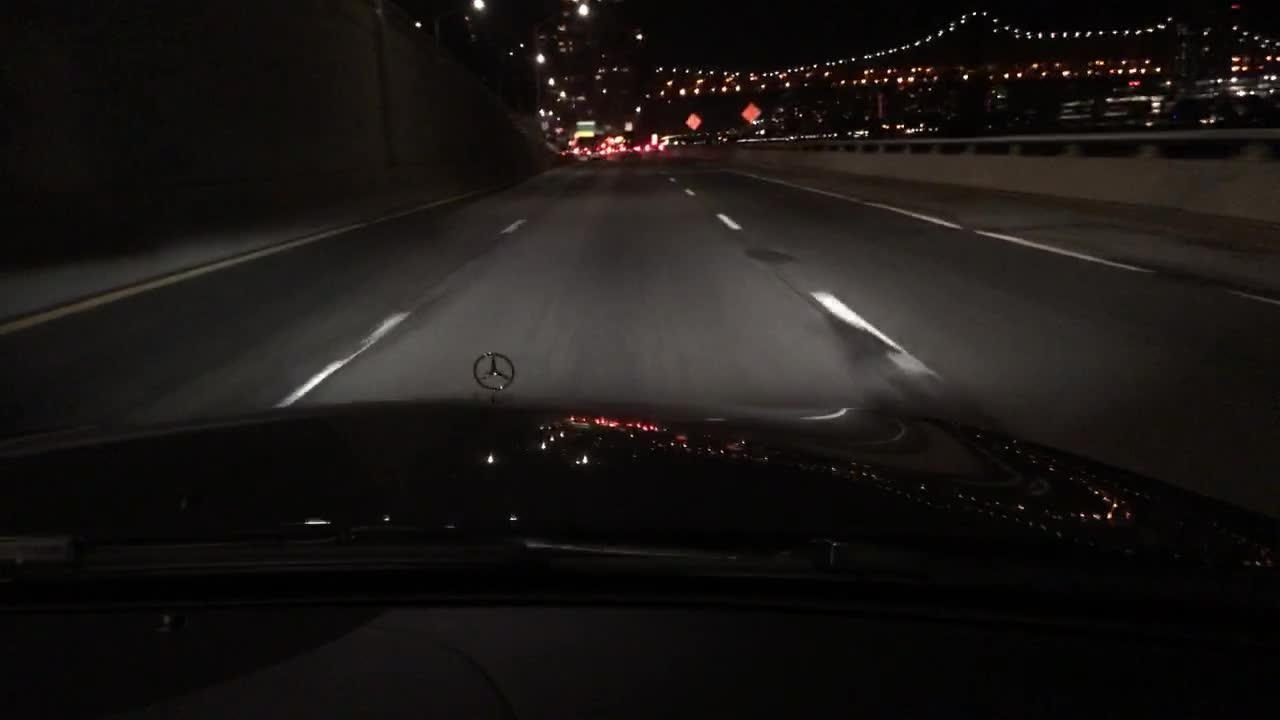Mercedes: (473, 349, 516, 393)
